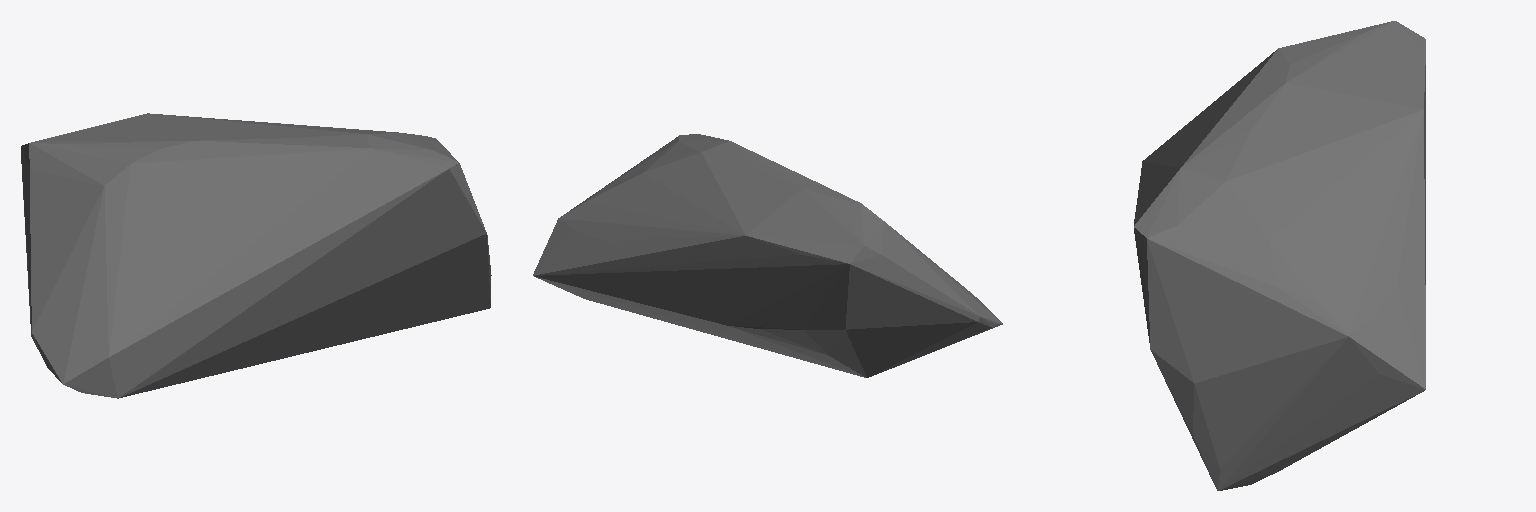
robot.urdf — 20_485:
<?xml version="1.0"?>
<robot name="20_485">
  <link name="link">
    <contact>
      <lateral_friction value="0.6"/>
    </contact>
    <inertial>
      <origin xyz="0.00403370951175671 -0.0009142149342569045 -0.0002006518588093356" rpy="0 0 0"/>
      <mass value = "0.5096994856795359"/>
      <inertia ixx="0.000175700749022837" ixy="-9.122623155742603e-07" ixz="-1.3425334571859869e-05" iyy="0.0005069491777219125" iyz="1.7508411189061708e-05" izz="0.0005242668622935666" />
    </inertial>
    <visual name="visual">
      <geometry>
        <mesh filename="20_485.obj"/>
      </geometry>
      <material name="material">
        <color rgba="0.4784344022067112 0.4784344022067112 0.4784344022067112 1.0"/>
      </material>
    </visual>
    <collision name="collision">
      <geometry>
        <mesh filename="20_485.obj"/>
      </geometry>
    </collision>
  </link>
</robot>

--- Facts derived from the render (not from the file) ---
The picture shows the robot from 3 angles, left to right: view 1: azimuth 30°, elevation 25°; view 2: azimuth 150°, elevation 25°; view 3: azimuth 270°, elevation 25°; orthographic projection.
Model 20_485 with 1 links and 0 joints (none), rooted at link, posed all joints at 0.
Links seen in each view (by area): view 1: link; view 2: link; view 3: link.
Link boxes in pixels (<box>): link: <box>21,113,491,398</box>; link: <box>533,134,1002,377</box>; link: <box>1134,21,1425,490</box>.
Size in the robot's own frame: 0.121 by 0.0564 by 0.0538 metres.
Meshes: 1 distinct files referenced, 1 mesh visuals loaded (1 OBJ).
